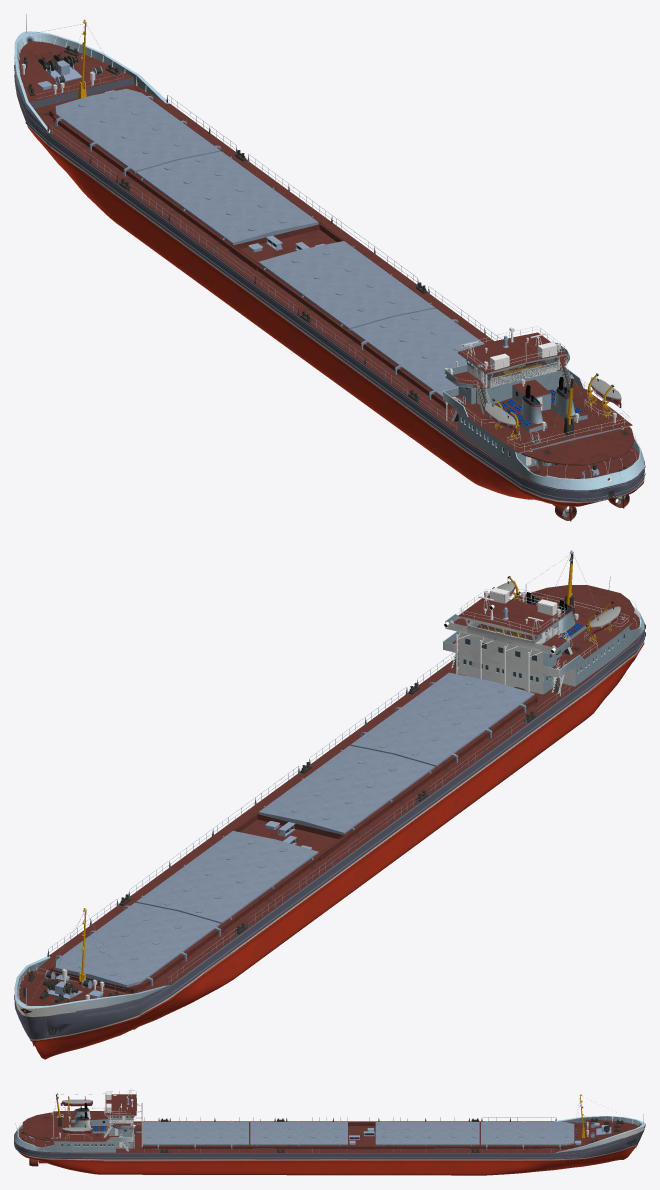
The model's file is VolgoDon507B_LOD1.fbx.
3 views of the same model, one above another, from view 1: azimuth 30°, elevation 25°; view 2: azimuth 150°, elevation 25°; view 3: azimuth 270°, elevation 25° (orthographic). The views are drawn at different scales.
Parts seen in each view (by area): view 1: LOD1__VD507B_deck, LOD1__VD507B_hull, LOD1__VD507B_rubka, LOD1__Panel_ForeInner, LOD1__Panel_AftInner, LOD1__Panel_ForeOuter, LOD1__Panel_AftOuter, LOD1__VD507B_detali, LOD1__VD507B_hull_detali, LOD1__VD507B_pipes, LOD1__VD507B_boats, LOD1__VD507B_rubka_detali (+1 smaller); view 2: LOD1__VD507B_deck, LOD1__VD507B_hull, LOD1__VD507B_rubka, LOD1__Panel_AftOuter, LOD1__Panel_ForeInner, LOD1__Panel_AftInner, LOD1__Panel_ForeOuter, LOD1__VD507B_hull_detali, LOD1__VD507B_detali, LOD1__VD507B_pipes, LOD1__VD507B_rubka_detali, LOD1__VD507B_interior (+1 smaller); view 3: LOD1__VD507B_hull, LOD1__VD507B_deck, LOD1__VD507B_rubka, LOD1__Panel_AftOuter, LOD1__Panel_ForeInner, LOD1__Panel_AftInner, LOD1__Panel_ForeOuter, LOD1__VD507B_hull_detali, LOD1__VD507B_detali, LOD1__VD507B_pipes, LOD1__VD507B_boats, LOD1__VD507B_rubka_detali (+1 smaller).
Boxes of the visible parts, box(x1,y1,x2,y2) form: LOD1__VD507B_deck: box(19, 41, 639, 480); LOD1__VD507B_hull: box(14, 72, 644, 506); LOD1__VD507B_rubka: box(14, 31, 644, 490); LOD1__Panel_ForeInner: box(136, 151, 318, 244); LOD1__Panel_AftInner: box(258, 241, 435, 330); LOD1__Panel_ForeOuter: box(55, 88, 220, 173); LOD1__Panel_AftOuter: box(350, 308, 484, 400); LOD1__VD507B_detali: box(17, 19, 626, 478); LOD1__VD507B_hull_detali: box(14, 65, 645, 506); LOD1__VD507B_pipes: box(26, 14, 640, 478); LOD1__VD507B_boats: box(485, 373, 621, 440); LOD1__VD507B_rubka_detali: box(444, 327, 582, 465); LOD1__VD507B_deck: box(18, 585, 640, 1005); LOD1__VD507B_hull: box(14, 629, 644, 1059); LOD1__VD507B_rubka: box(14, 597, 644, 1017); LOD1__Panel_AftOuter: box(350, 672, 534, 767); LOD1__Panel_ForeInner: box(136, 831, 318, 924); LOD1__Panel_AftInner: box(258, 745, 434, 834); LOD1__Panel_ForeOuter: box(55, 902, 220, 987); LOD1__VD507B_hull_detali: box(14, 622, 645, 1046); LOD1__VD507B_detali: box(17, 550, 623, 1005); LOD1__VD507B_pipes: box(26, 554, 640, 1006); LOD1__VD507B_rubka_detali: box(444, 587, 582, 691); LOD1__VD507B_interior: box(465, 619, 557, 649); LOD1__VD507B_hull: box(14, 1130, 643, 1175); LOD1__VD507B_deck: box(18, 1094, 638, 1153); LOD1__VD507B_rubka: box(14, 1094, 645, 1152); LOD1__Panel_AftOuter: box(143, 1122, 248, 1145); LOD1__Panel_ForeInner: box(375, 1122, 479, 1145); LOD1__Panel_AftInner: box(250, 1122, 347, 1145); LOD1__Panel_ForeOuter: box(481, 1122, 574, 1145); LOD1__VD507B_hull_detali: box(14, 1118, 644, 1163); LOD1__VD507B_detali: box(21, 1091, 638, 1152); LOD1__VD507B_pipes: box(15, 1090, 643, 1152); LOD1__VD507B_boats: box(60, 1096, 92, 1138); LOD1__VD507B_rubka_detali: box(80, 1091, 142, 1147).
Size of the model in its own units: 16.7 by 16.17 by 138.
12 materials, 9 textured.
